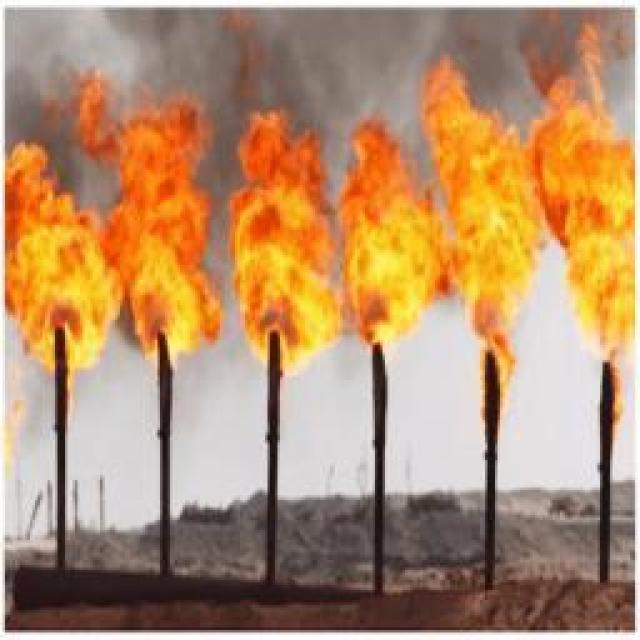fire: (223, 45, 636, 445), (3, 73, 223, 425)
smoke: (4, 8, 634, 335)
